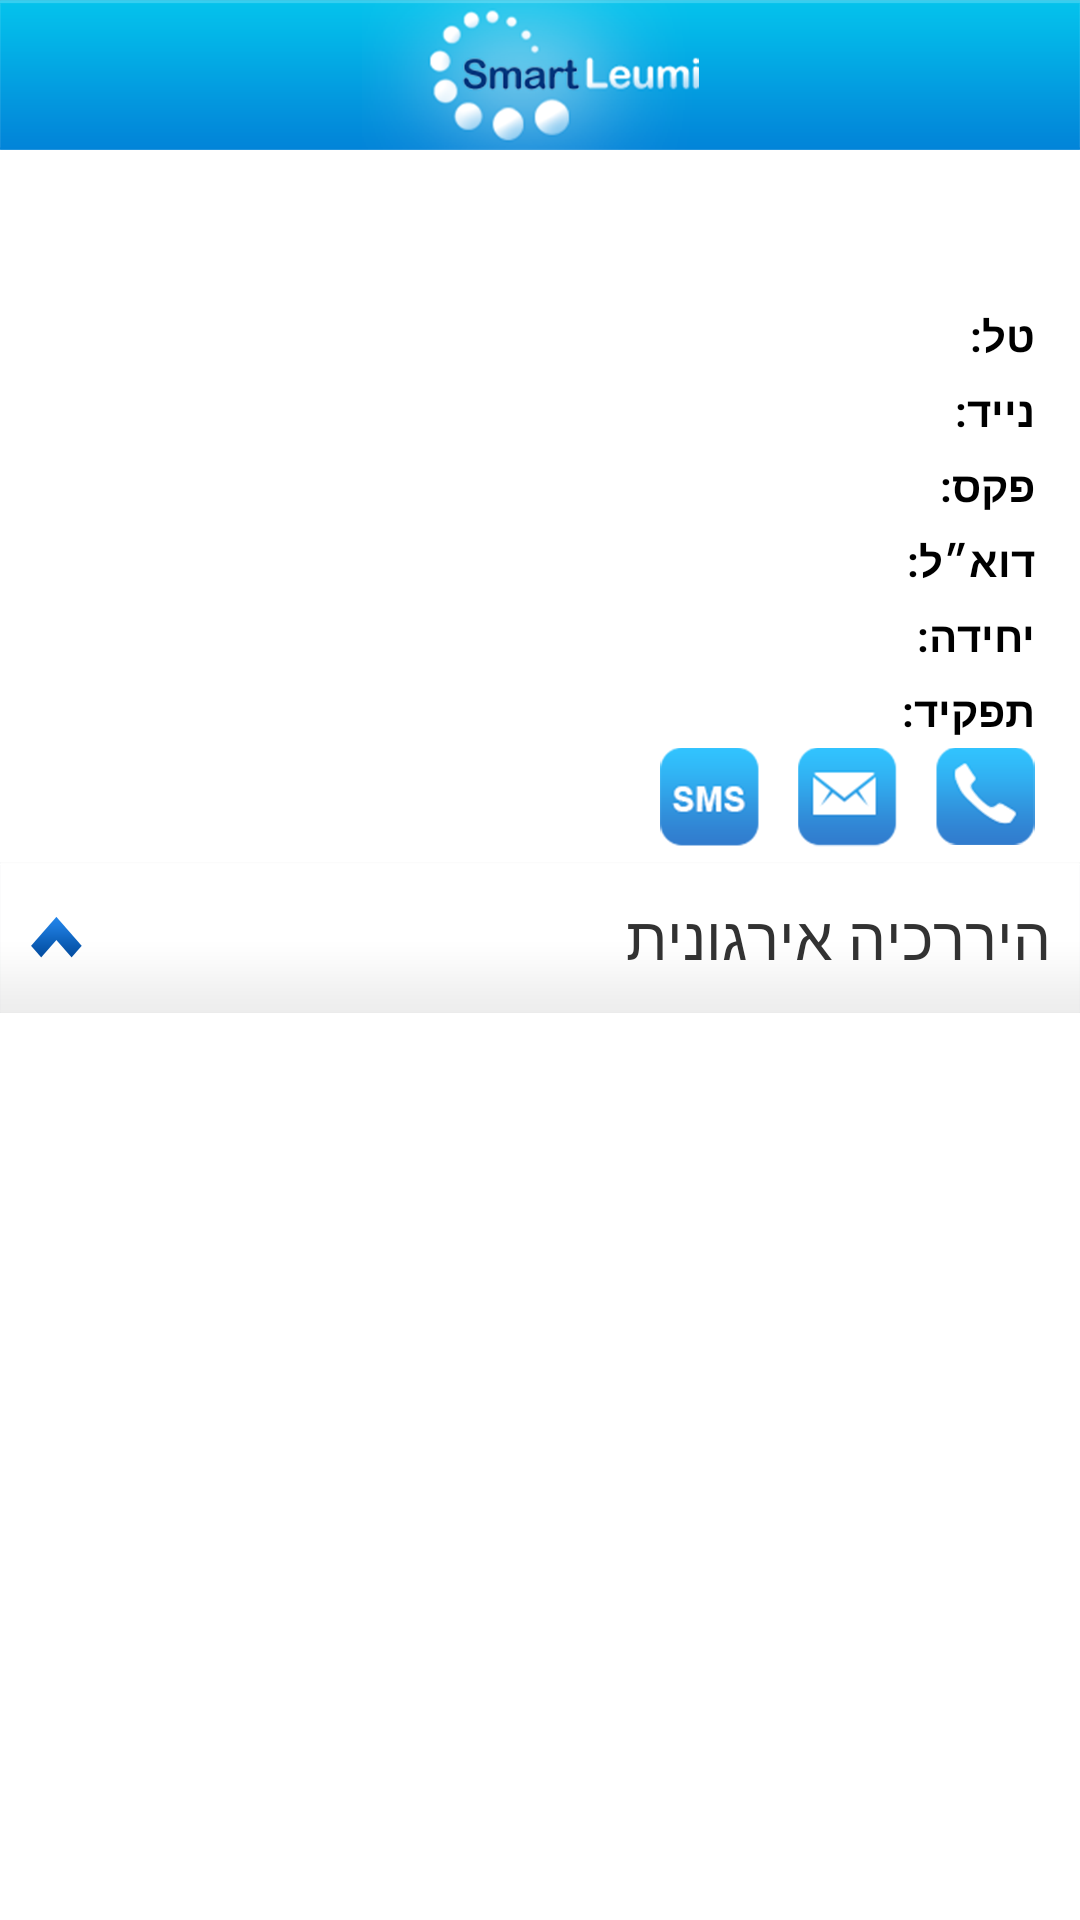

Named icons in this screenshot (1080 × 1920) and their bounding boxes, detection(x1, y1, x2, y2):
arrowup: detection(31, 917, 82, 958)
emailicon: detection(798, 748, 897, 846)
phoneicon: detection(936, 748, 1035, 845)
